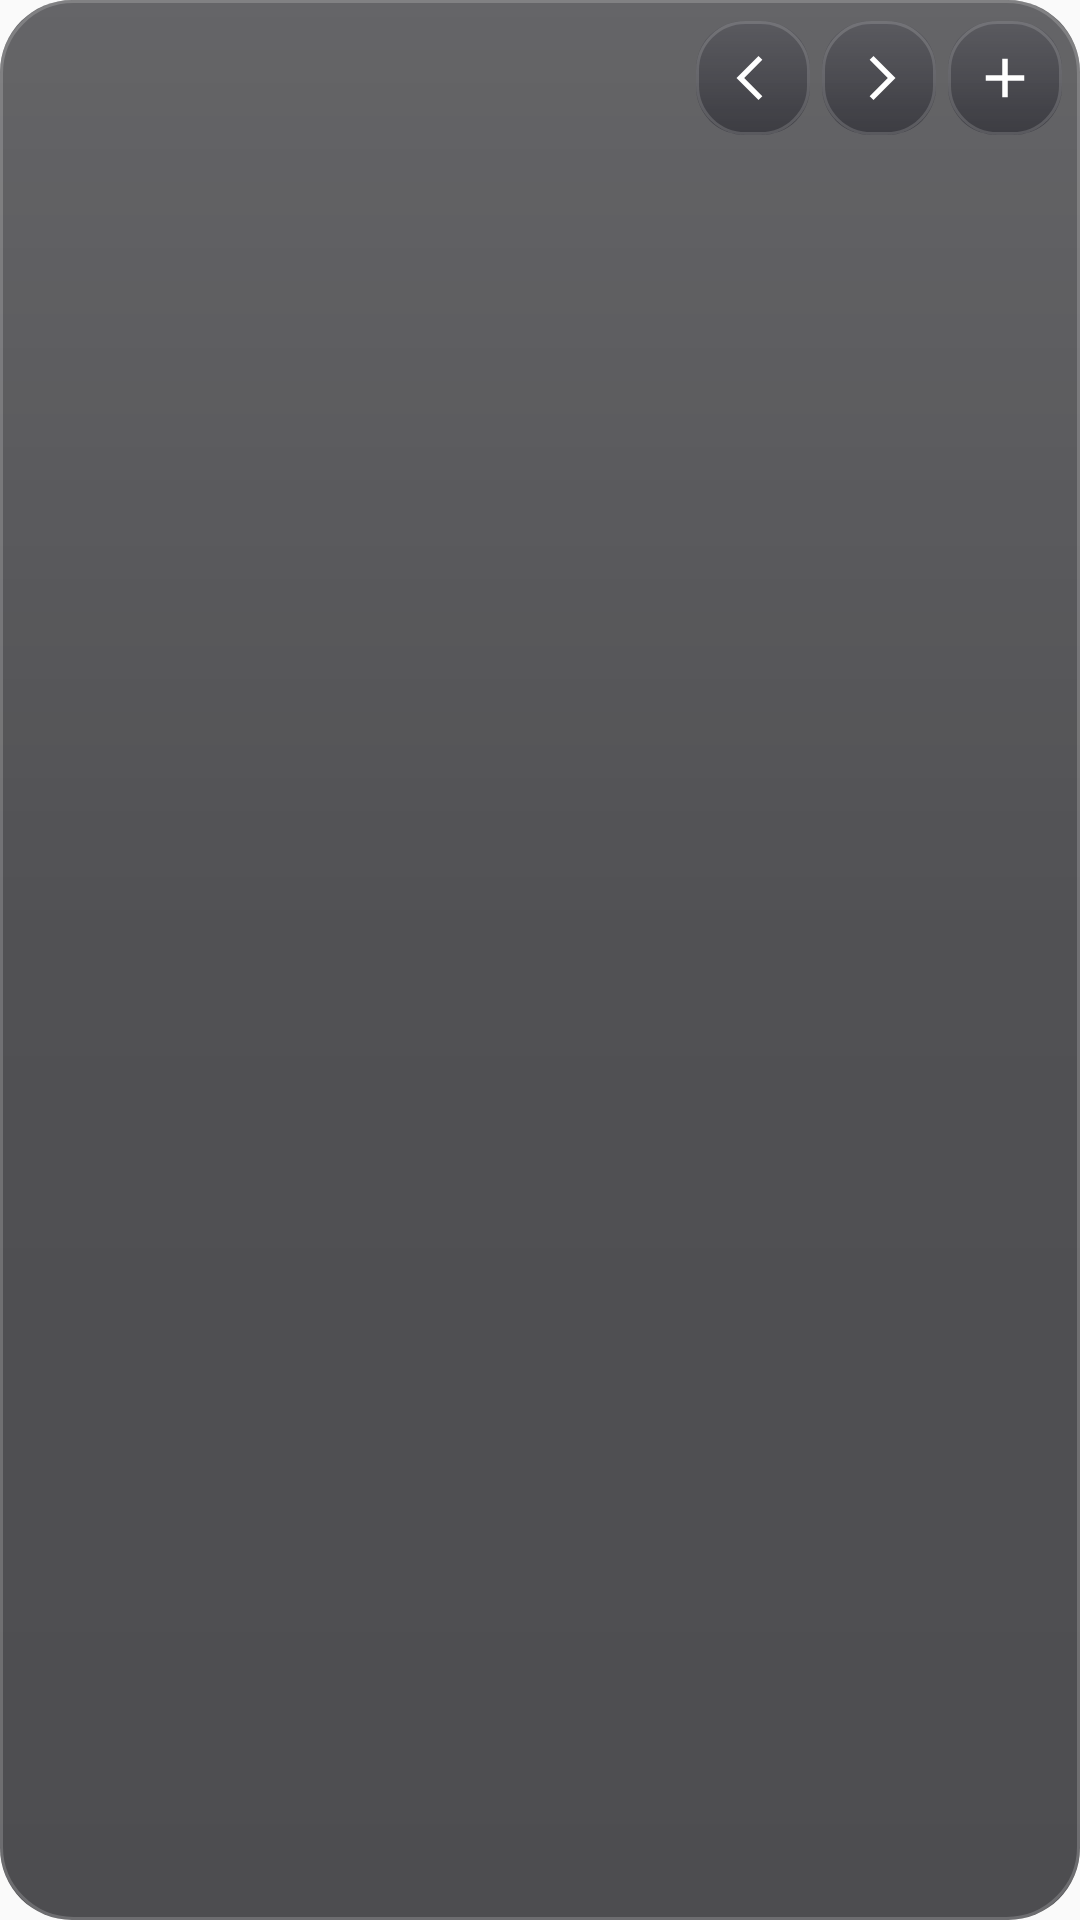

Named icons in this screenshot (1080×1920) and their centers, [x,y]:
Añadir: [1005,95]
Mes anterior: [753,94]
Mes siguiente: [879,94]
